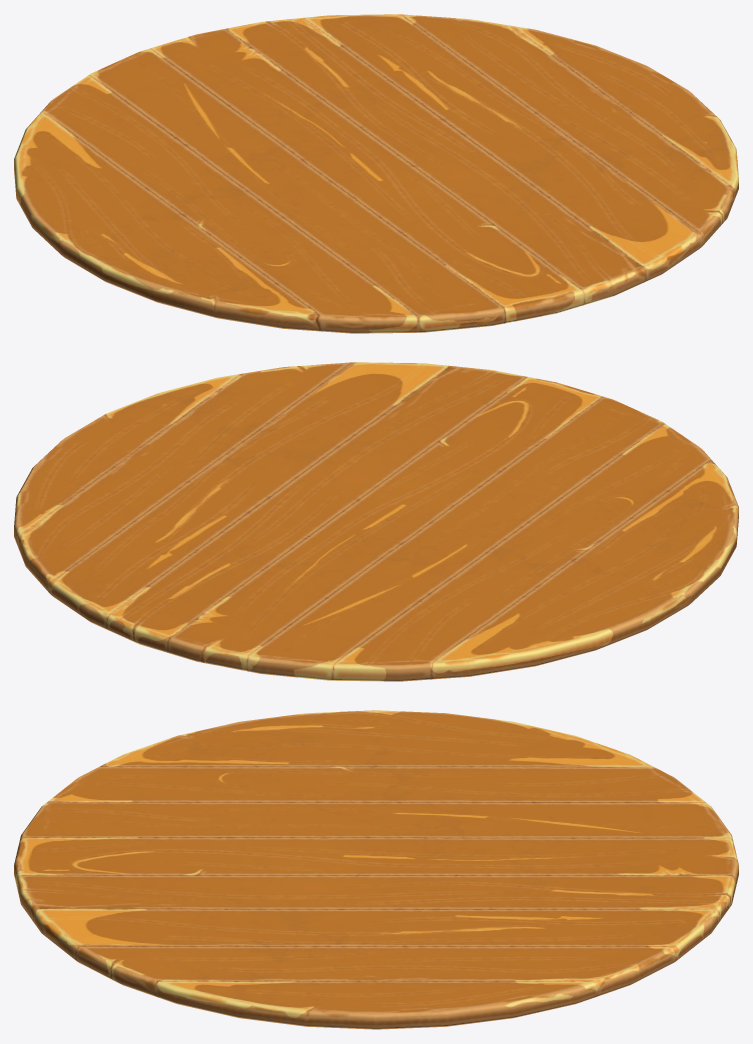
Rendered from SM_Table001.glb.
The picture shows the model from 3 angles, top to bottom: view 1: azimuth 30°, elevation 25°; view 2: azimuth 150°, elevation 25°; view 3: azimuth 270°, elevation 25°; orthographic projection.
Visible parts, largest first — view 1: SM_Table001_lp; view 2: SM_Table001_lp; view 3: SM_Table001_lp.
Boxes of the visible parts, x1=… form: SM_Table001_lp: x1=14, y1=14, x2=738, y2=333; SM_Table001_lp: x1=14, y1=362, x2=738, y2=681; SM_Table001_lp: x1=14, y1=710, x2=738, y2=1029.
Size of the model in its own units: 4.79 by 0.7255 by 4.79.
1 material, 1 textured.
